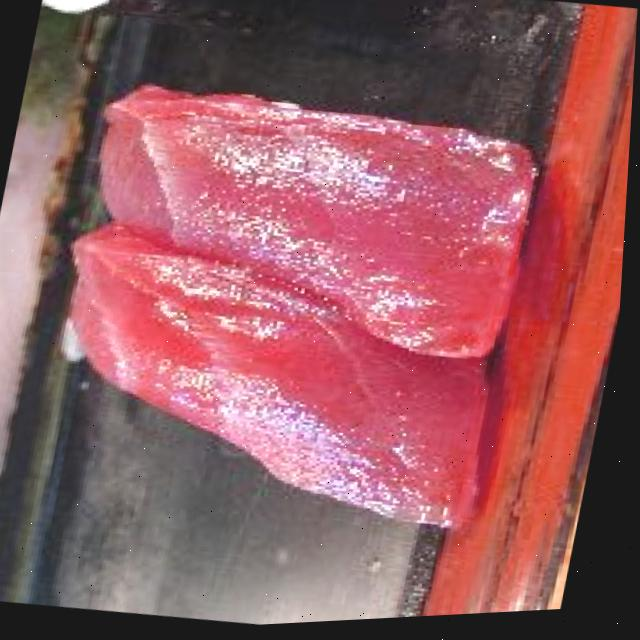寿司卷物: (9, 36, 610, 574)
